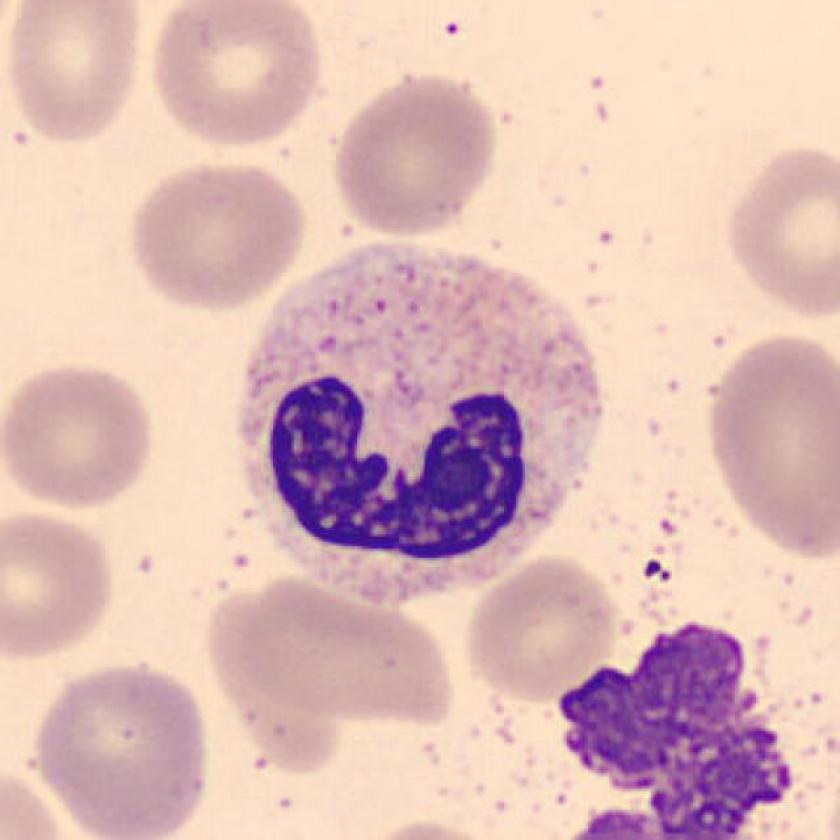neutrophil: (244, 244, 601, 606)
